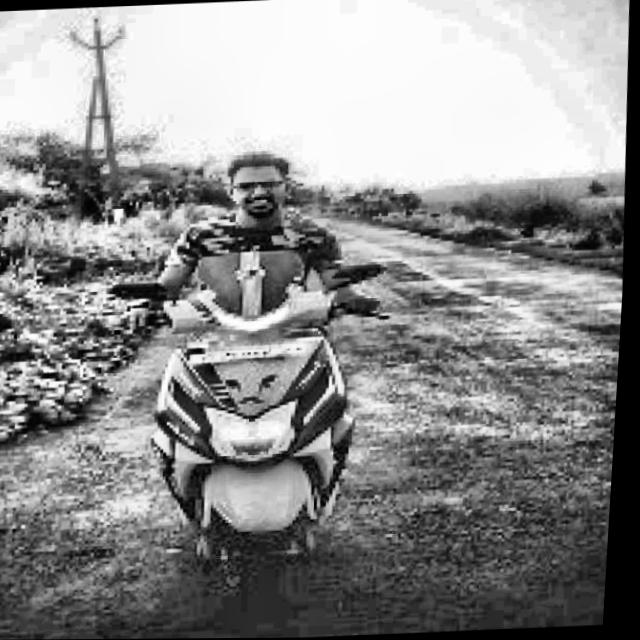motorcycle: (108, 223, 409, 639)
